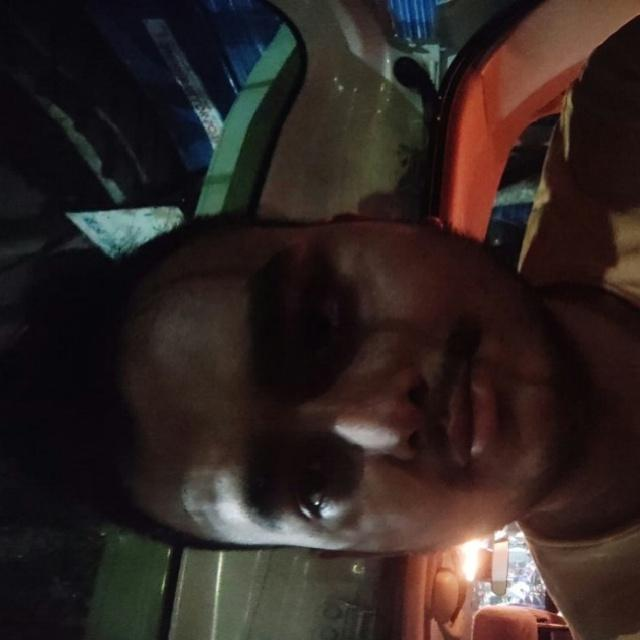Natural: (129, 212, 546, 608)
